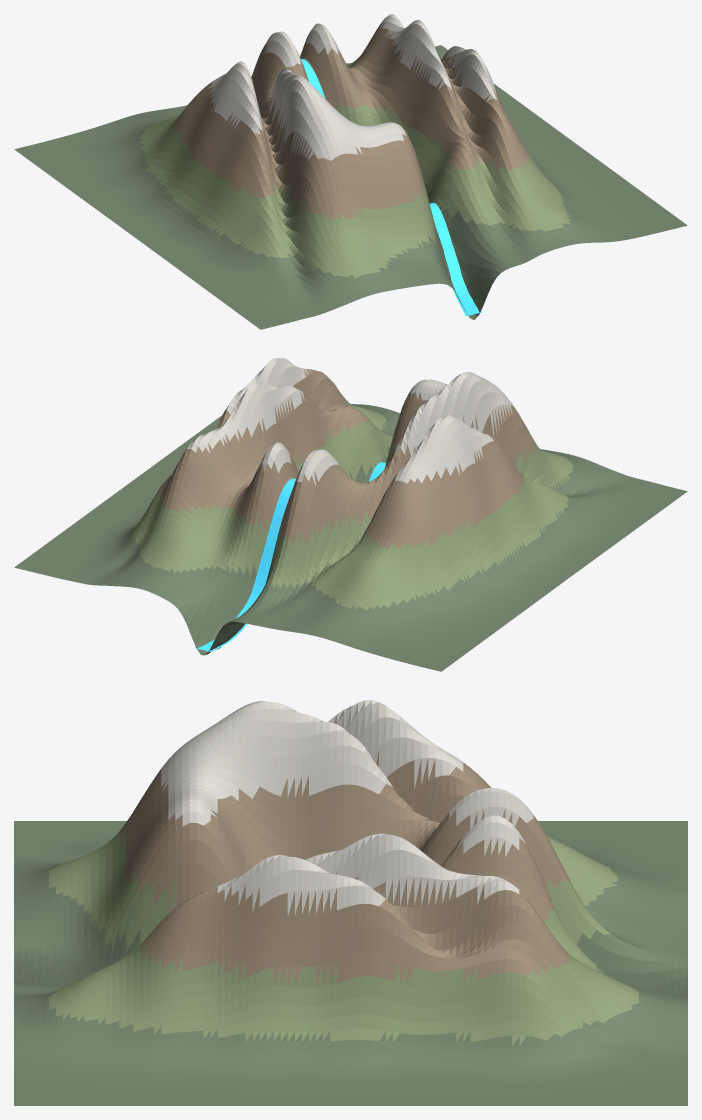
The model's file is source.gltf.
3 renders of one model, top to bottom at view 1: azimuth 30°, elevation 25°; view 2: azimuth 150°, elevation 25°; view 3: azimuth 270°, elevation 25°, orthographic. The views are drawn at different scales.
Visible parts, largest first — view 1: Eroded mountain watershed; view 2: Eroded mountain watershed; view 3: Eroded mountain watershed.
Boxes of the visible parts, <box> form: Eroded mountain watershed: <box>14,14,687,329</box>; Eroded mountain watershed: <box>14,358,687,671</box>; Eroded mountain watershed: <box>14,700,687,1105</box>.
Bounding box in the file's own units: 12 × 5.24 × 12.
